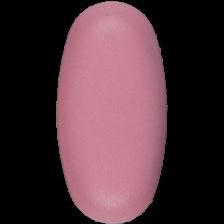52125-988: (0, 0, 224, 224)
